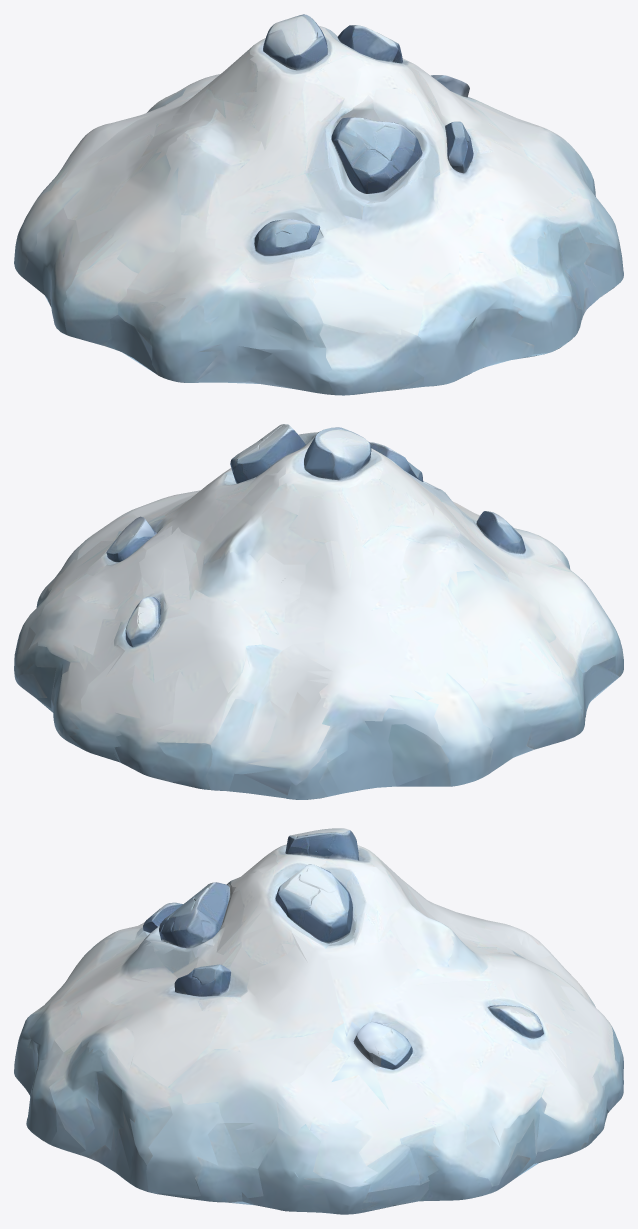
Rendered from snowdrift.glb.
3 views of the same model, one above another, from view 1: azimuth 30°, elevation 25°; view 2: azimuth 150°, elevation 25°; view 3: azimuth 270°, elevation 25° (orthographic).
Bounding box in the file's own units: 1.9 × 0.8519 × 1.89.
1 material, 1 textured.
